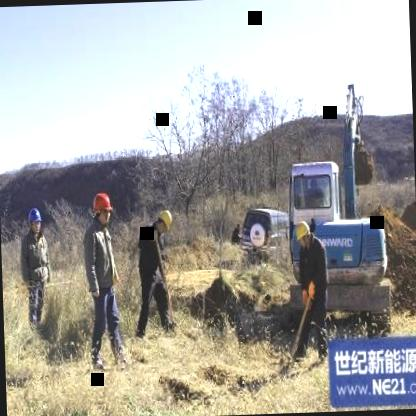helmet: (21, 201, 47, 240), (92, 189, 114, 226), (152, 210, 175, 240), (295, 221, 316, 251)
